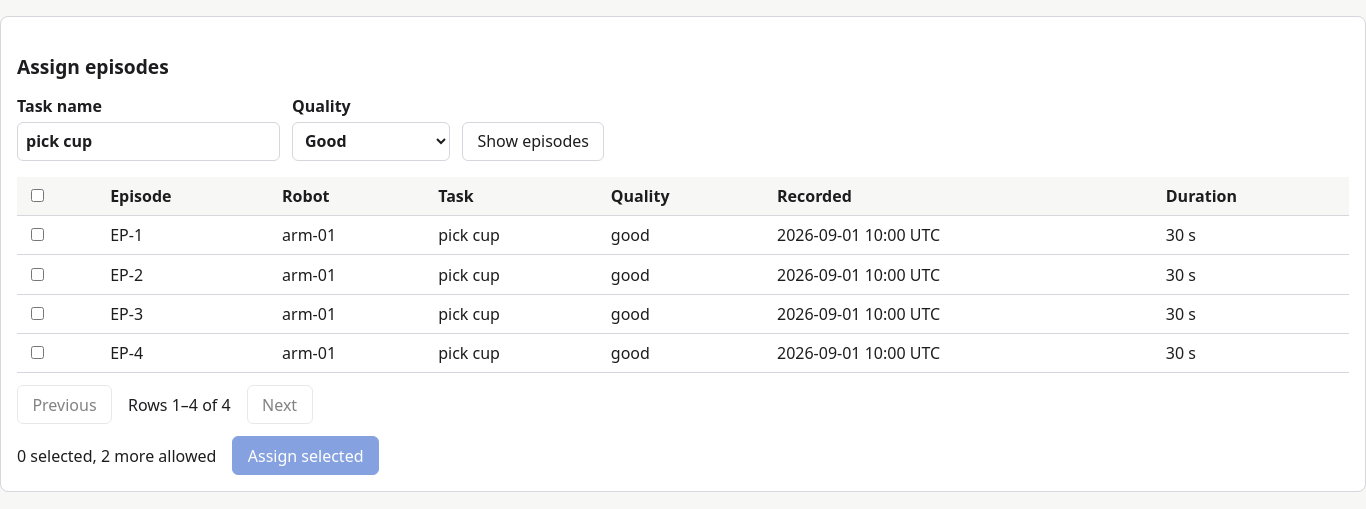
Test case: assignment picker › counts the selection against what is still allowed and disables Assign when it is too much
expect the button "Assign selected" is disabled: met, box x1=232 y1=436 x2=379 y2=475
Click the checkbox named "Select EP-1".
click(37, 235)  # box x1=31 y1=228 x2=44 y2=241
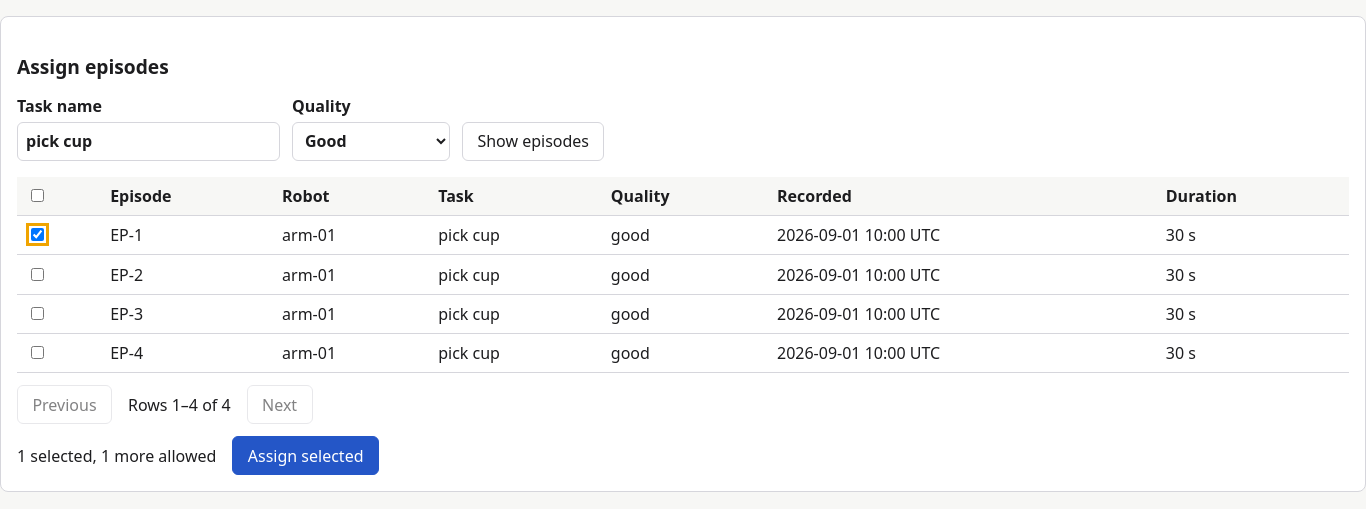
Click the checkbox named "Select EP-2".
click(37, 274)  # box x1=31 y1=268 x2=44 y2=280
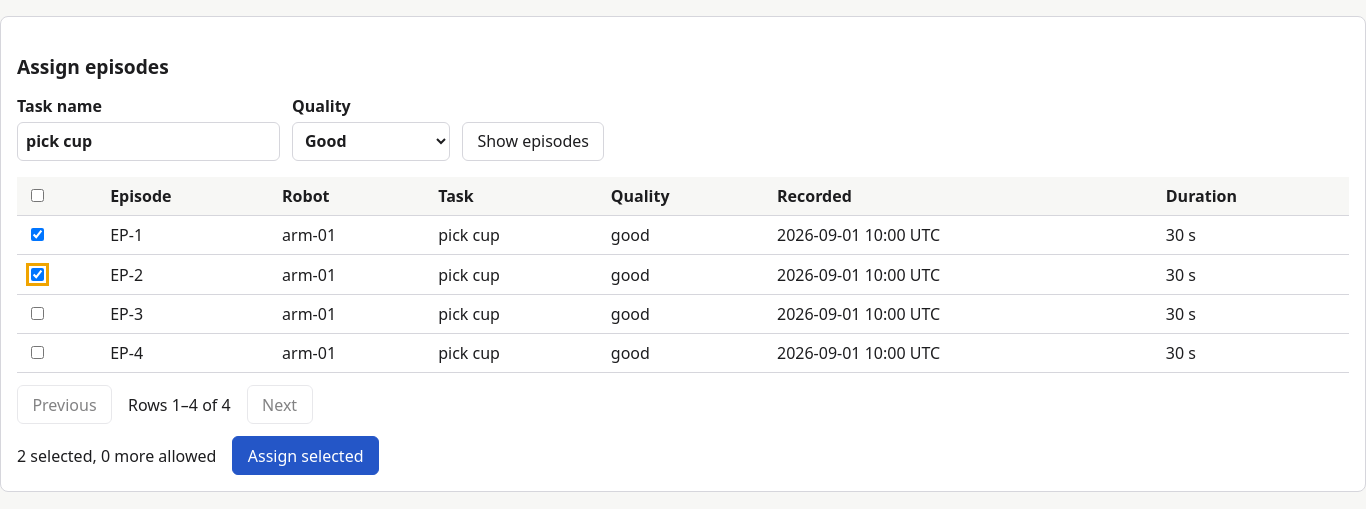
expect the button "Assign selected" is enabled: met, box x1=232 y1=436 x2=379 y2=475
expect the message reads "2 selected, 0 more allowed": met, box x1=17 y1=445 x2=216 y2=467
Click the checkbox named "Select EP-3".
click(37, 313)  # box x1=31 y1=307 x2=44 y2=320
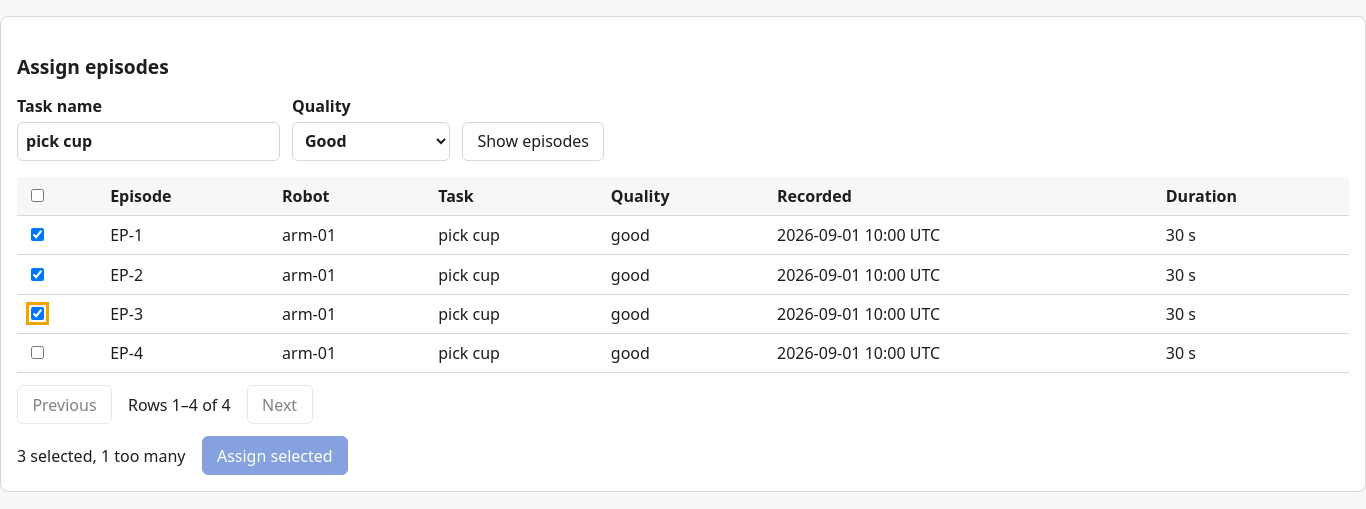
expect the message reads "3 selected, 1 too many": met, box x1=17 y1=445 x2=186 y2=467
expect the button "Assign selected" is disabled: met, box x1=202 y1=436 x2=348 y2=475
